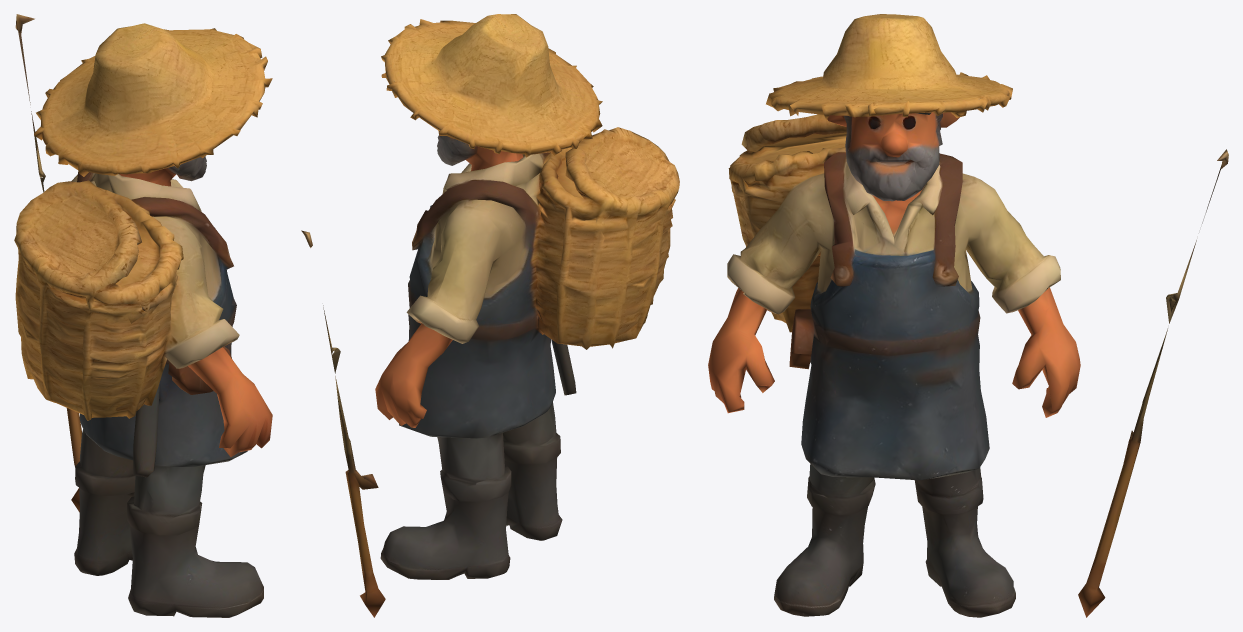
File: villager_fisher.glb
The picture shows the model from 3 angles, left to right: view 1: azimuth 30°, elevation 25°; view 2: azimuth 150°, elevation 25°; view 3: azimuth 270°, elevation 25°; orthographic projection. The views are drawn at different scales.
Parts seen in each view (by area): view 1: tripo_node_2b6dc71d-db1a-4743-8860-f021910b4527; view 2: tripo_node_2b6dc71d-db1a-4743-8860-f021910b4527; view 3: tripo_node_2b6dc71d-db1a-4743-8860-f021910b4527.
Boxes of the visible parts, <box> form: tripo_node_2b6dc71d-db1a-4743-8860-f021910b4527: <box>14,14,272,617</box>; tripo_node_2b6dc71d-db1a-4743-8860-f021910b4527: <box>301,14,679,617</box>; tripo_node_2b6dc71d-db1a-4743-8860-f021910b4527: <box>708,14,1228,617</box>.
Size of the model in its own units: 0.4624 by 1 by 0.8062.
Materials: 1 (1 with a texture image).
